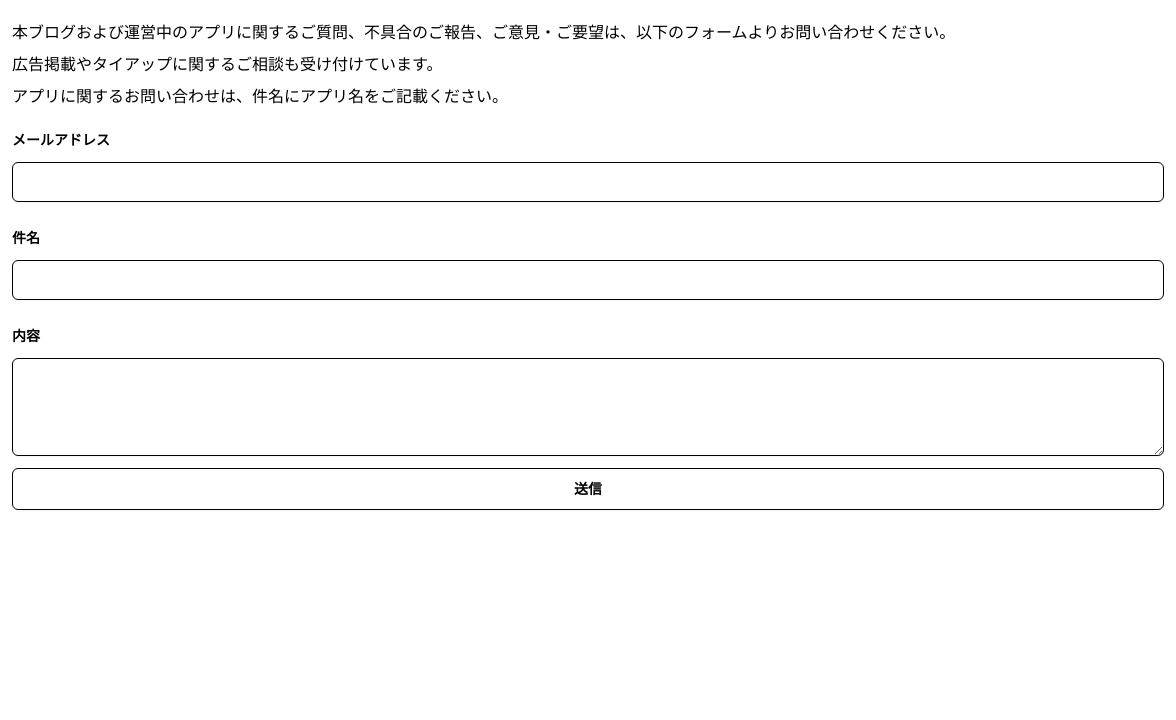
ContactFeature › shows a recaptcha validation message before opening the confirmation modal
Type "test@example.com" into the field labelled "メールアドレス". click: (588,182)
box: [12,162,1164,202]
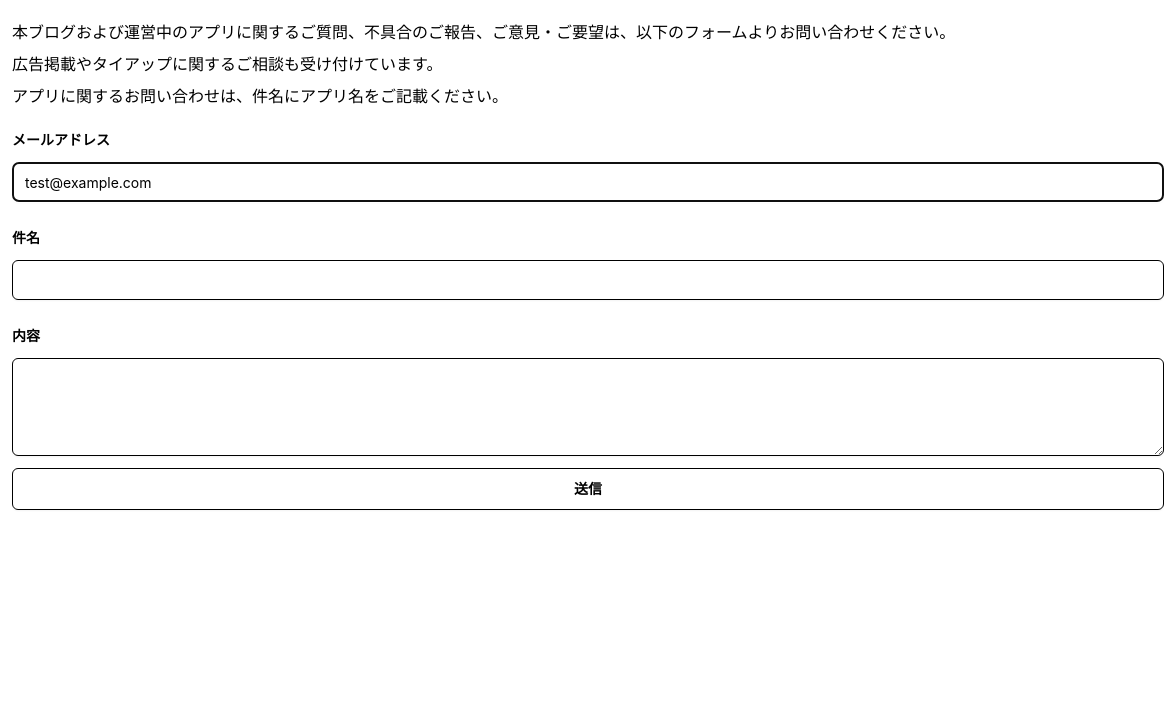
Type "Test subject" into the field labelled "件名". click: (588,280)
box: [12,260,1164,300]
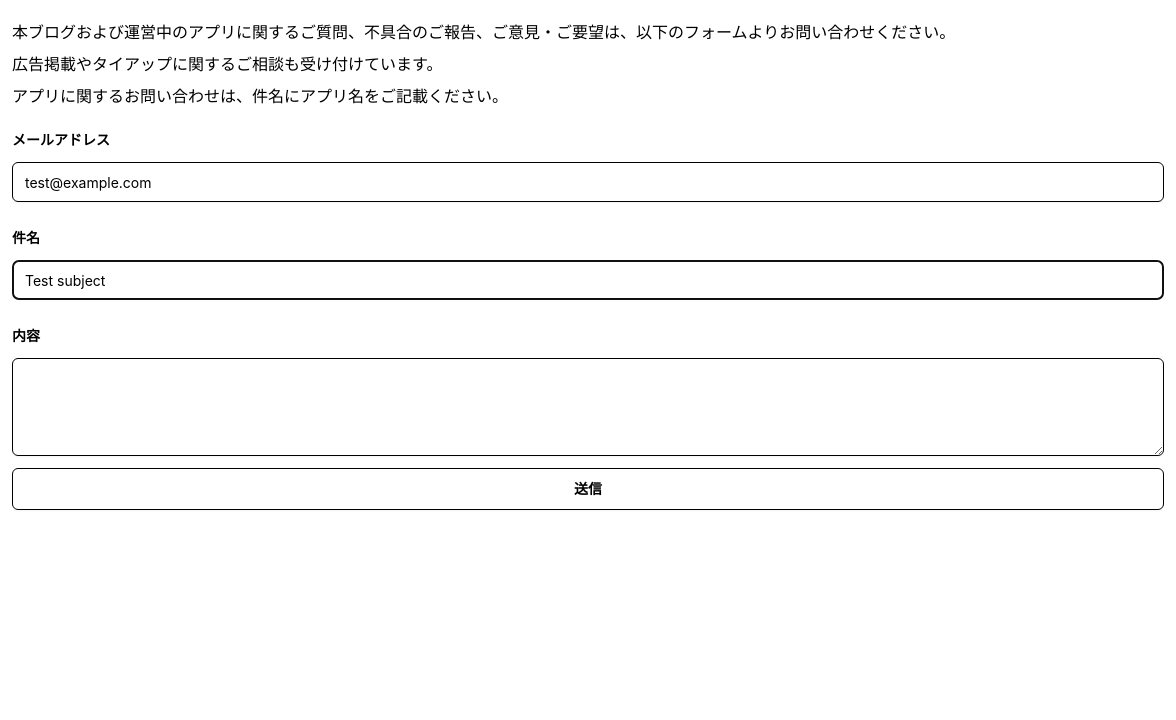
Type "Test message" into the text box labelled "内容". click: (588,407)
box: [12,358,1164,456]
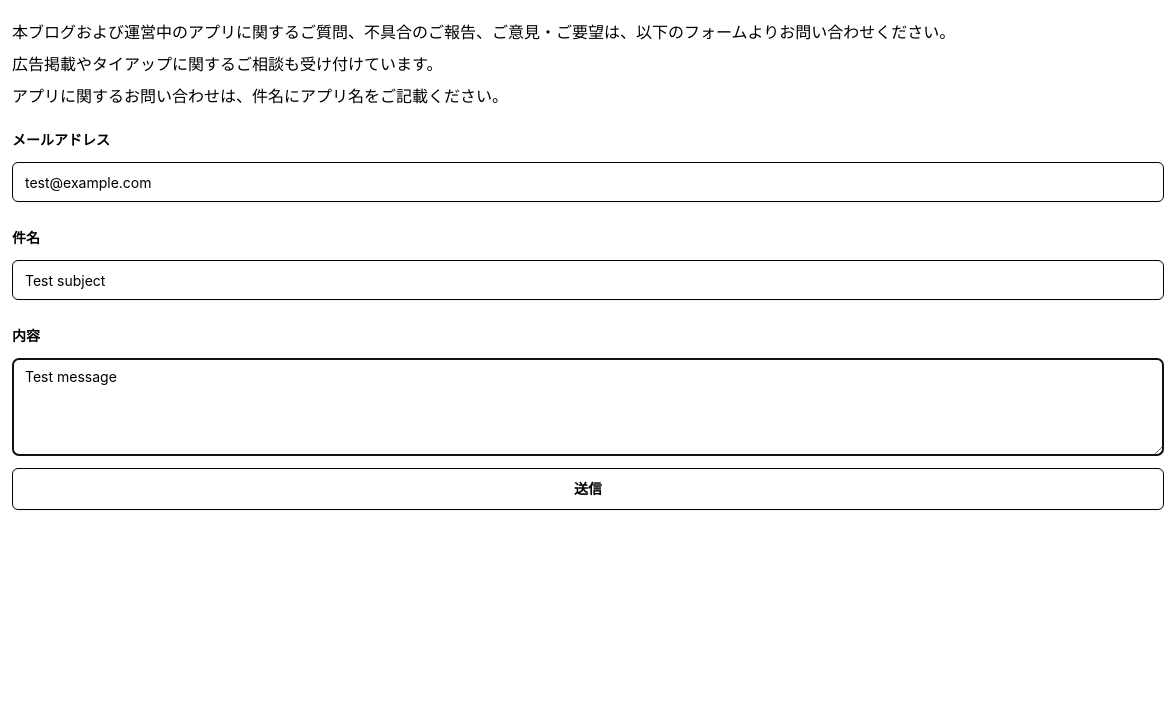
Click the button "送信". click: (588,489)
box: [12,468,1164,510]
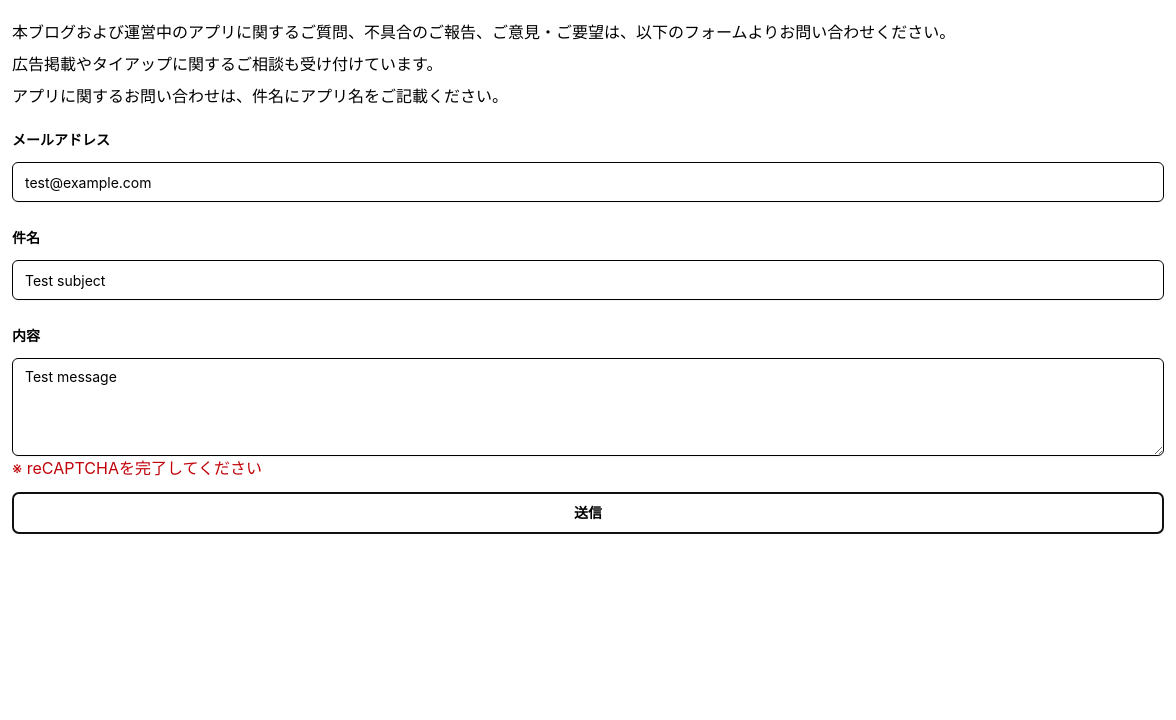
Result: the text "※ reCAPTCHAを完了してください" is shown at [12,458,262,478]
